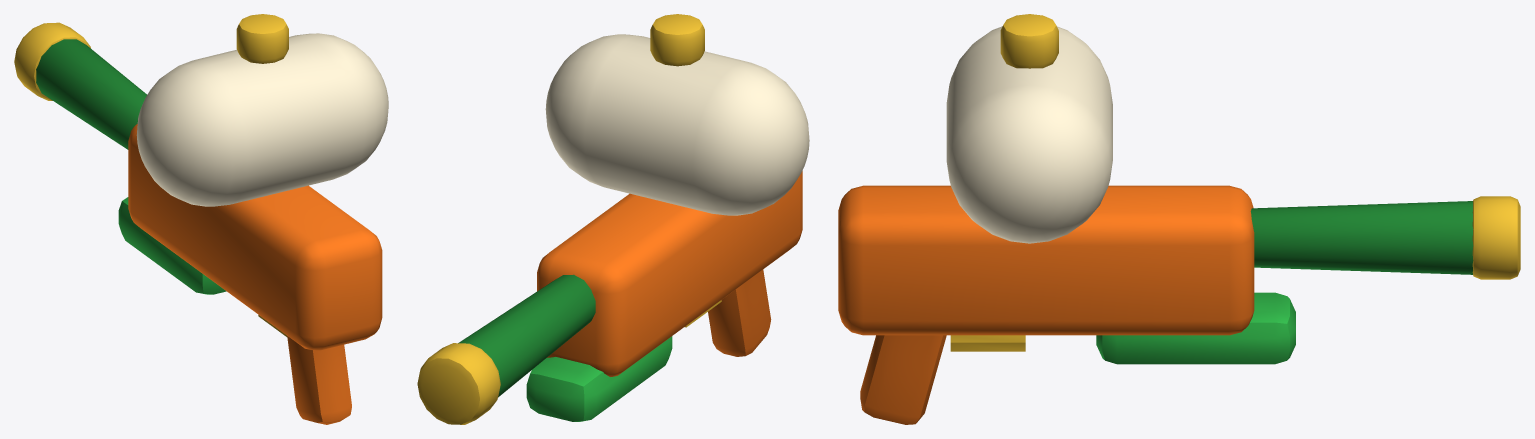
Rendered from soaker.glb.
3 renders of one model, left to right at view 1: azimuth 30°, elevation 25°; view 2: azimuth 150°, elevation 25°; view 3: azimuth 270°, elevation 25°, orthographic. The views are drawn at different scales.
Parts seen in each view (by area): view 1: soaker; view 2: soaker; view 3: soaker.
Boxes of the visible parts, <box> form: soaker: <box>14,14,388,424</box>; soaker: <box>417,14,809,424</box>; soaker: <box>838,14,1520,424</box>.
Size of the model in its own units: 0.36 by 0.5275 by 0.82.
